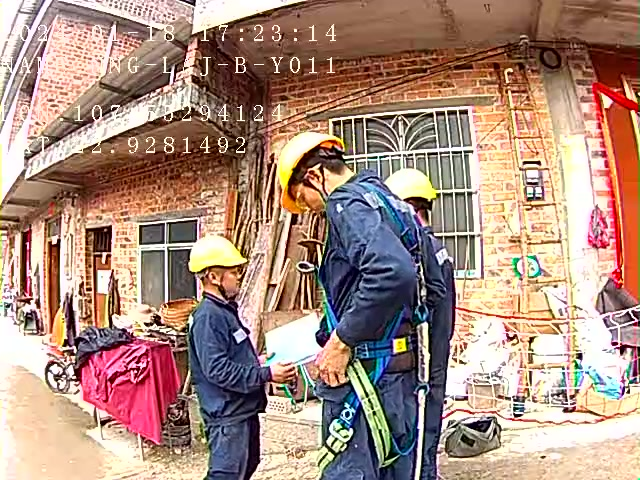downsuit: (314, 349, 436, 480), (201, 423, 262, 480)
halt: (275, 131, 349, 209), (188, 235, 251, 295), (385, 168, 438, 220)
hand: (313, 329, 350, 387), (268, 357, 297, 384)
inear: (298, 163, 329, 197), (203, 270, 229, 292)
person: (278, 130, 447, 480), (181, 233, 277, 480)
safebelt: (316, 174, 438, 480)
upsuit: (313, 174, 427, 347), (188, 296, 268, 417)
worksign: (510, 252, 543, 278)
